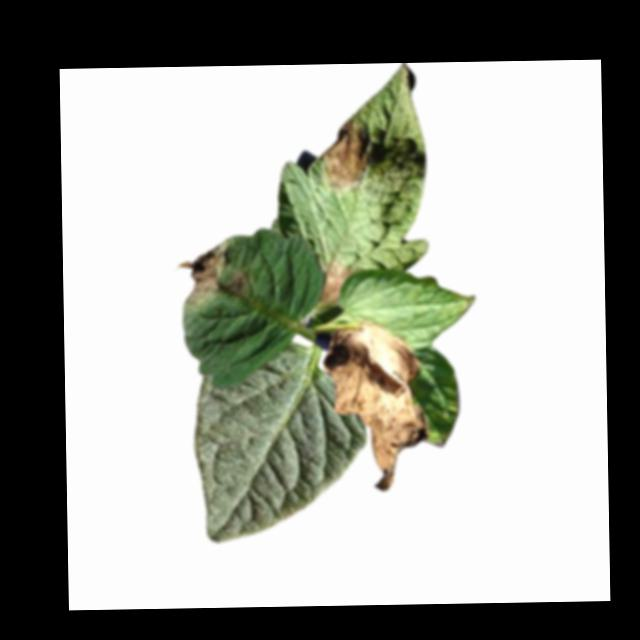Late_blight: (323, 318, 429, 493), (319, 117, 376, 194), (179, 239, 231, 310), (316, 260, 359, 309), (230, 270, 251, 297)
